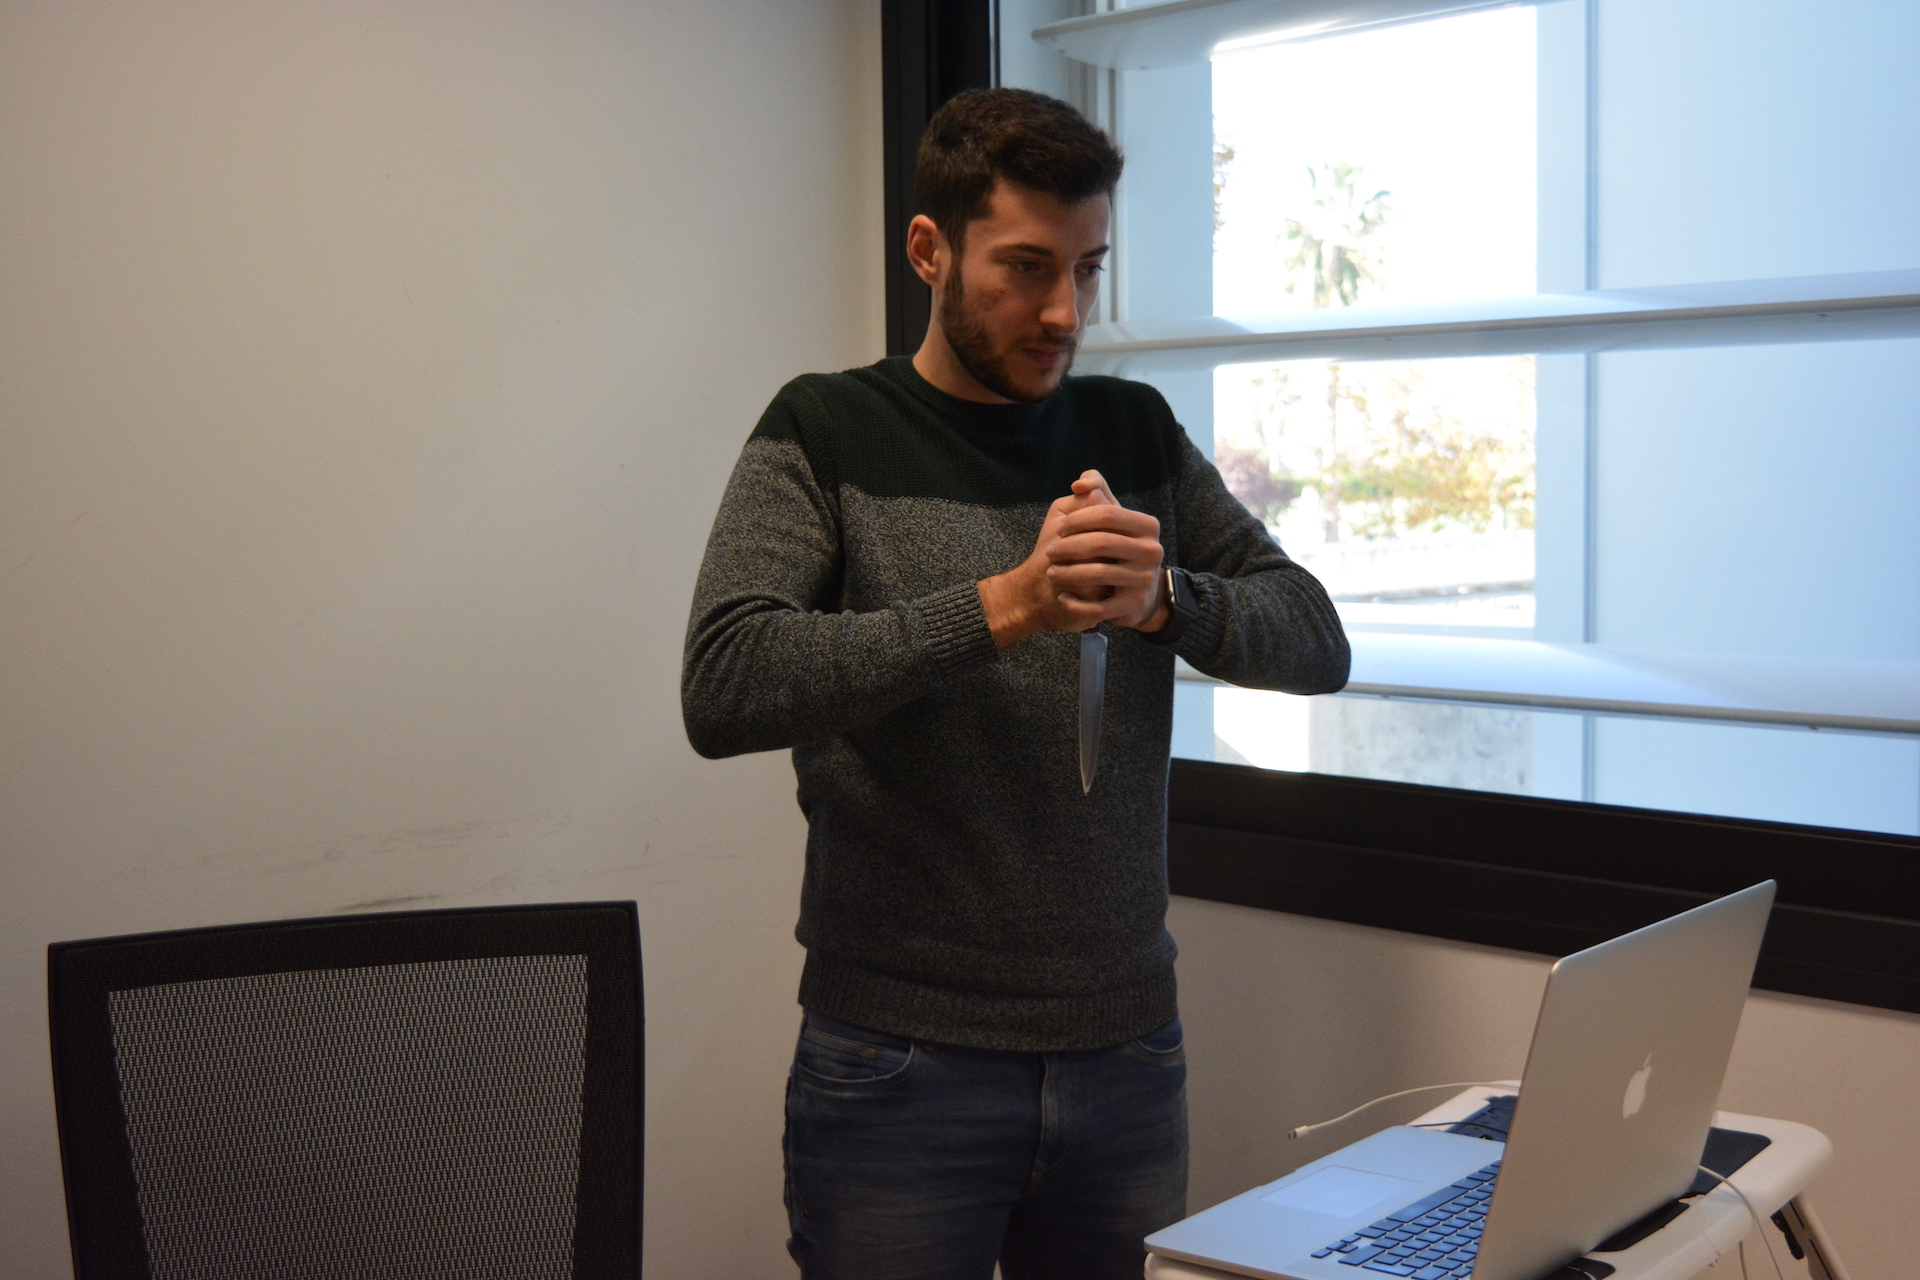knife: (1063, 609, 1121, 803)
